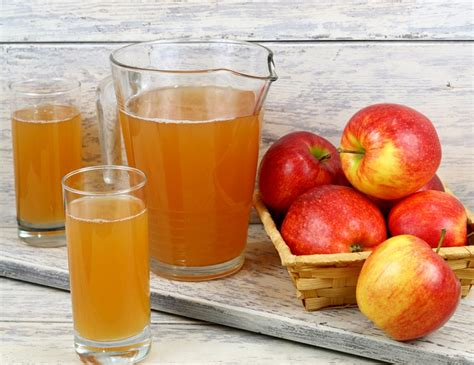apple: (354, 230, 462, 344), (336, 101, 445, 202), (256, 129, 347, 210)
